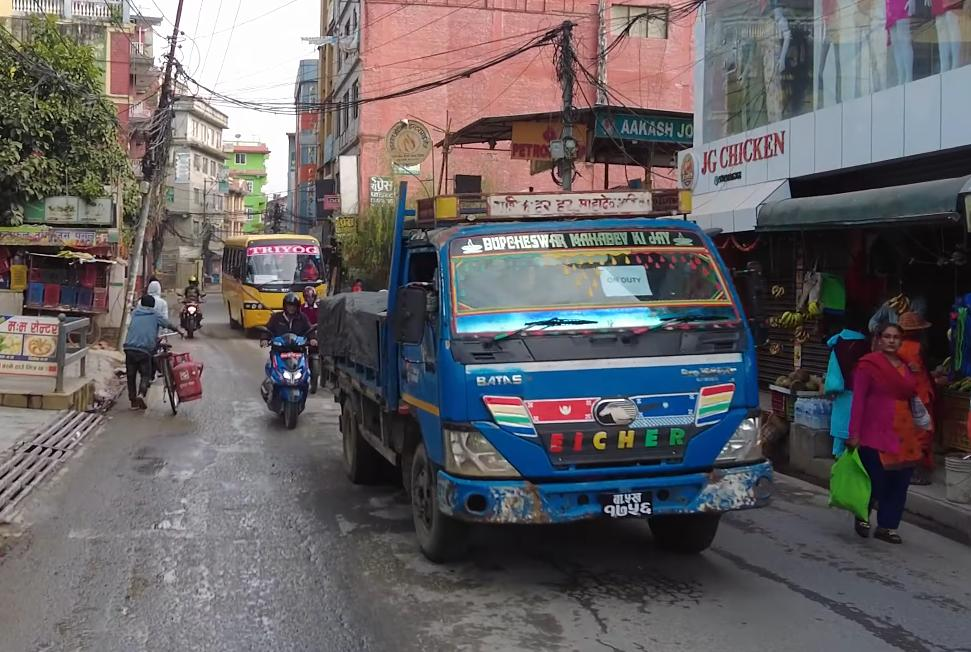bike: (177, 267, 210, 340)
bus: (220, 222, 328, 335)
mini_truck: (301, 159, 773, 568)
scooter: (255, 292, 313, 426)
